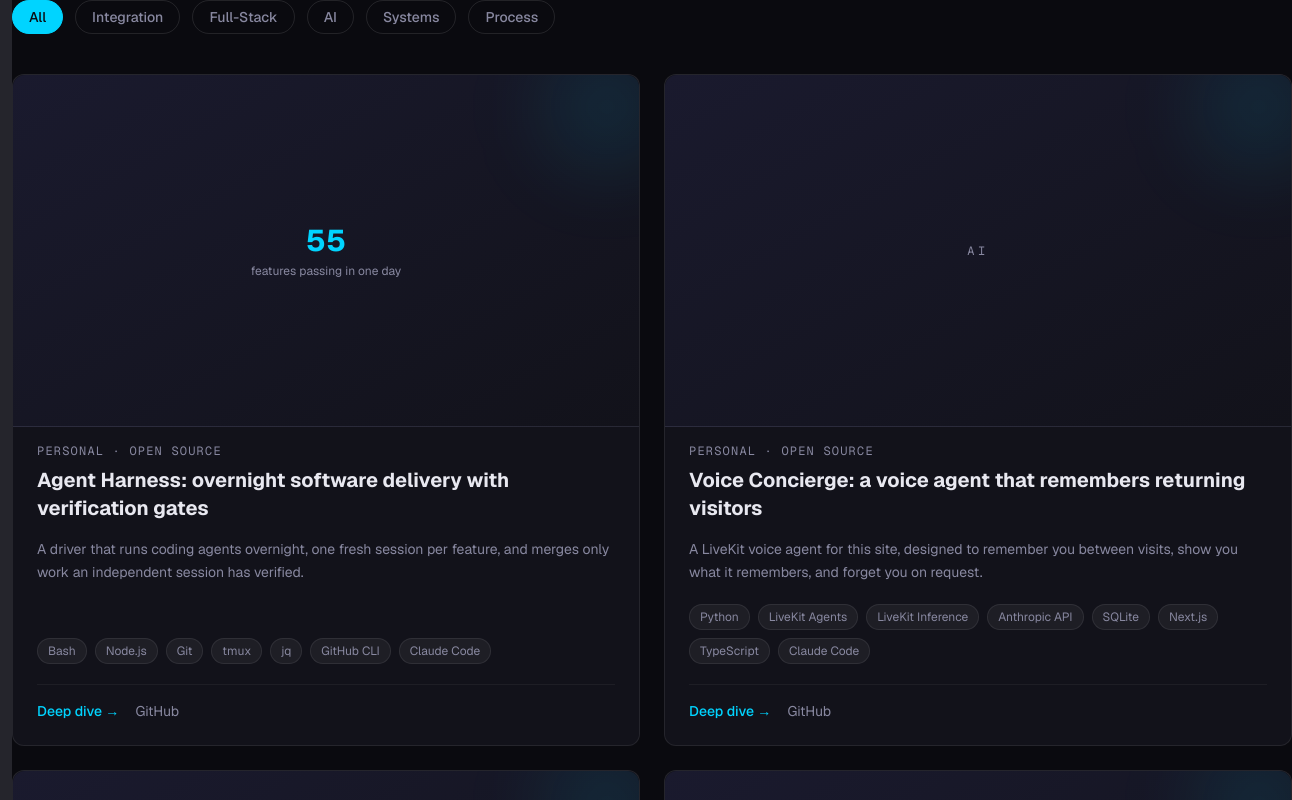
Test: ProjectsGrid › filtering by Integration shows only integration projects
Click the button "Integration": (128, 17) [75,0,180,34]
(page scrolled)
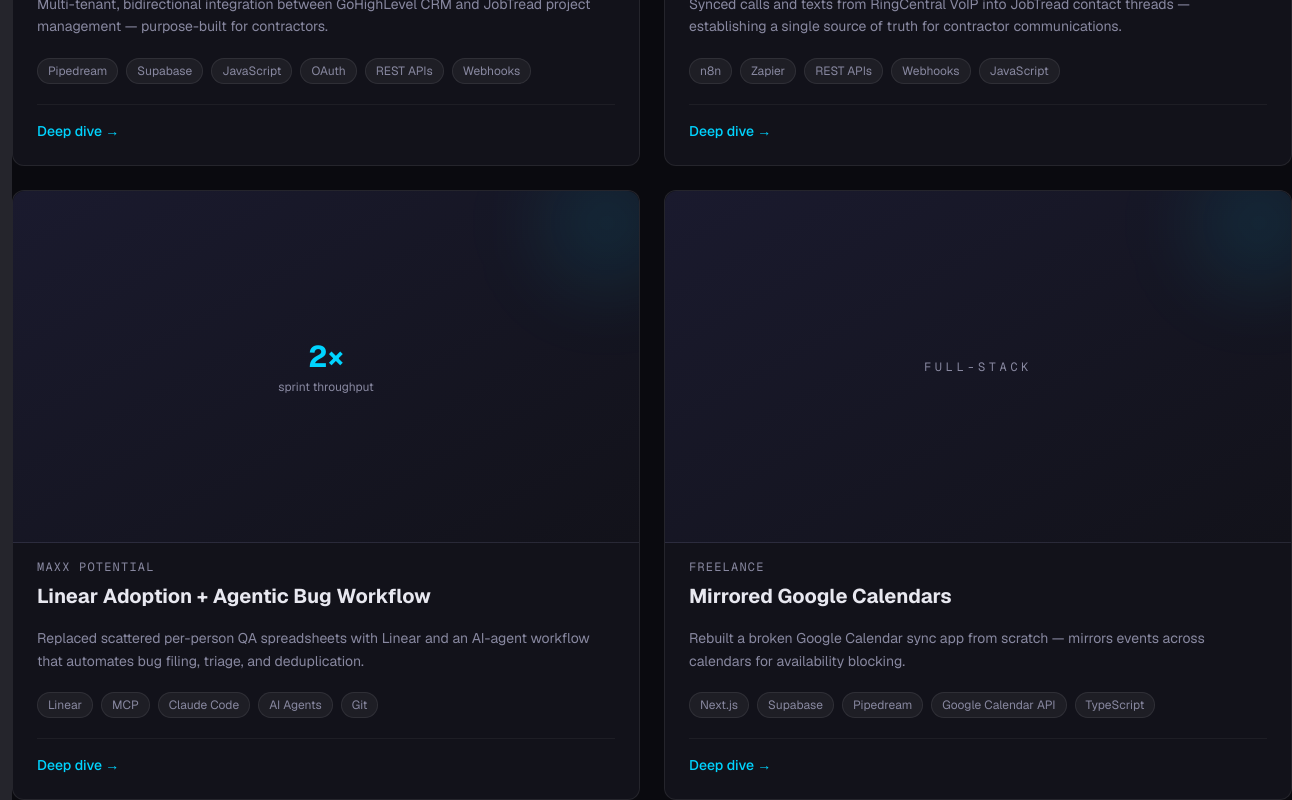
expect the heading "Linear Adoption + Agentic Bug Workflow" is shown: met, box [37,583,431,609]
expect the heading "Agent Harness: overnight software delivery with verification gates" is gone: met
expect the heading "Voice Concierge: a voice agent that remembers returning visitors" is gone: met
